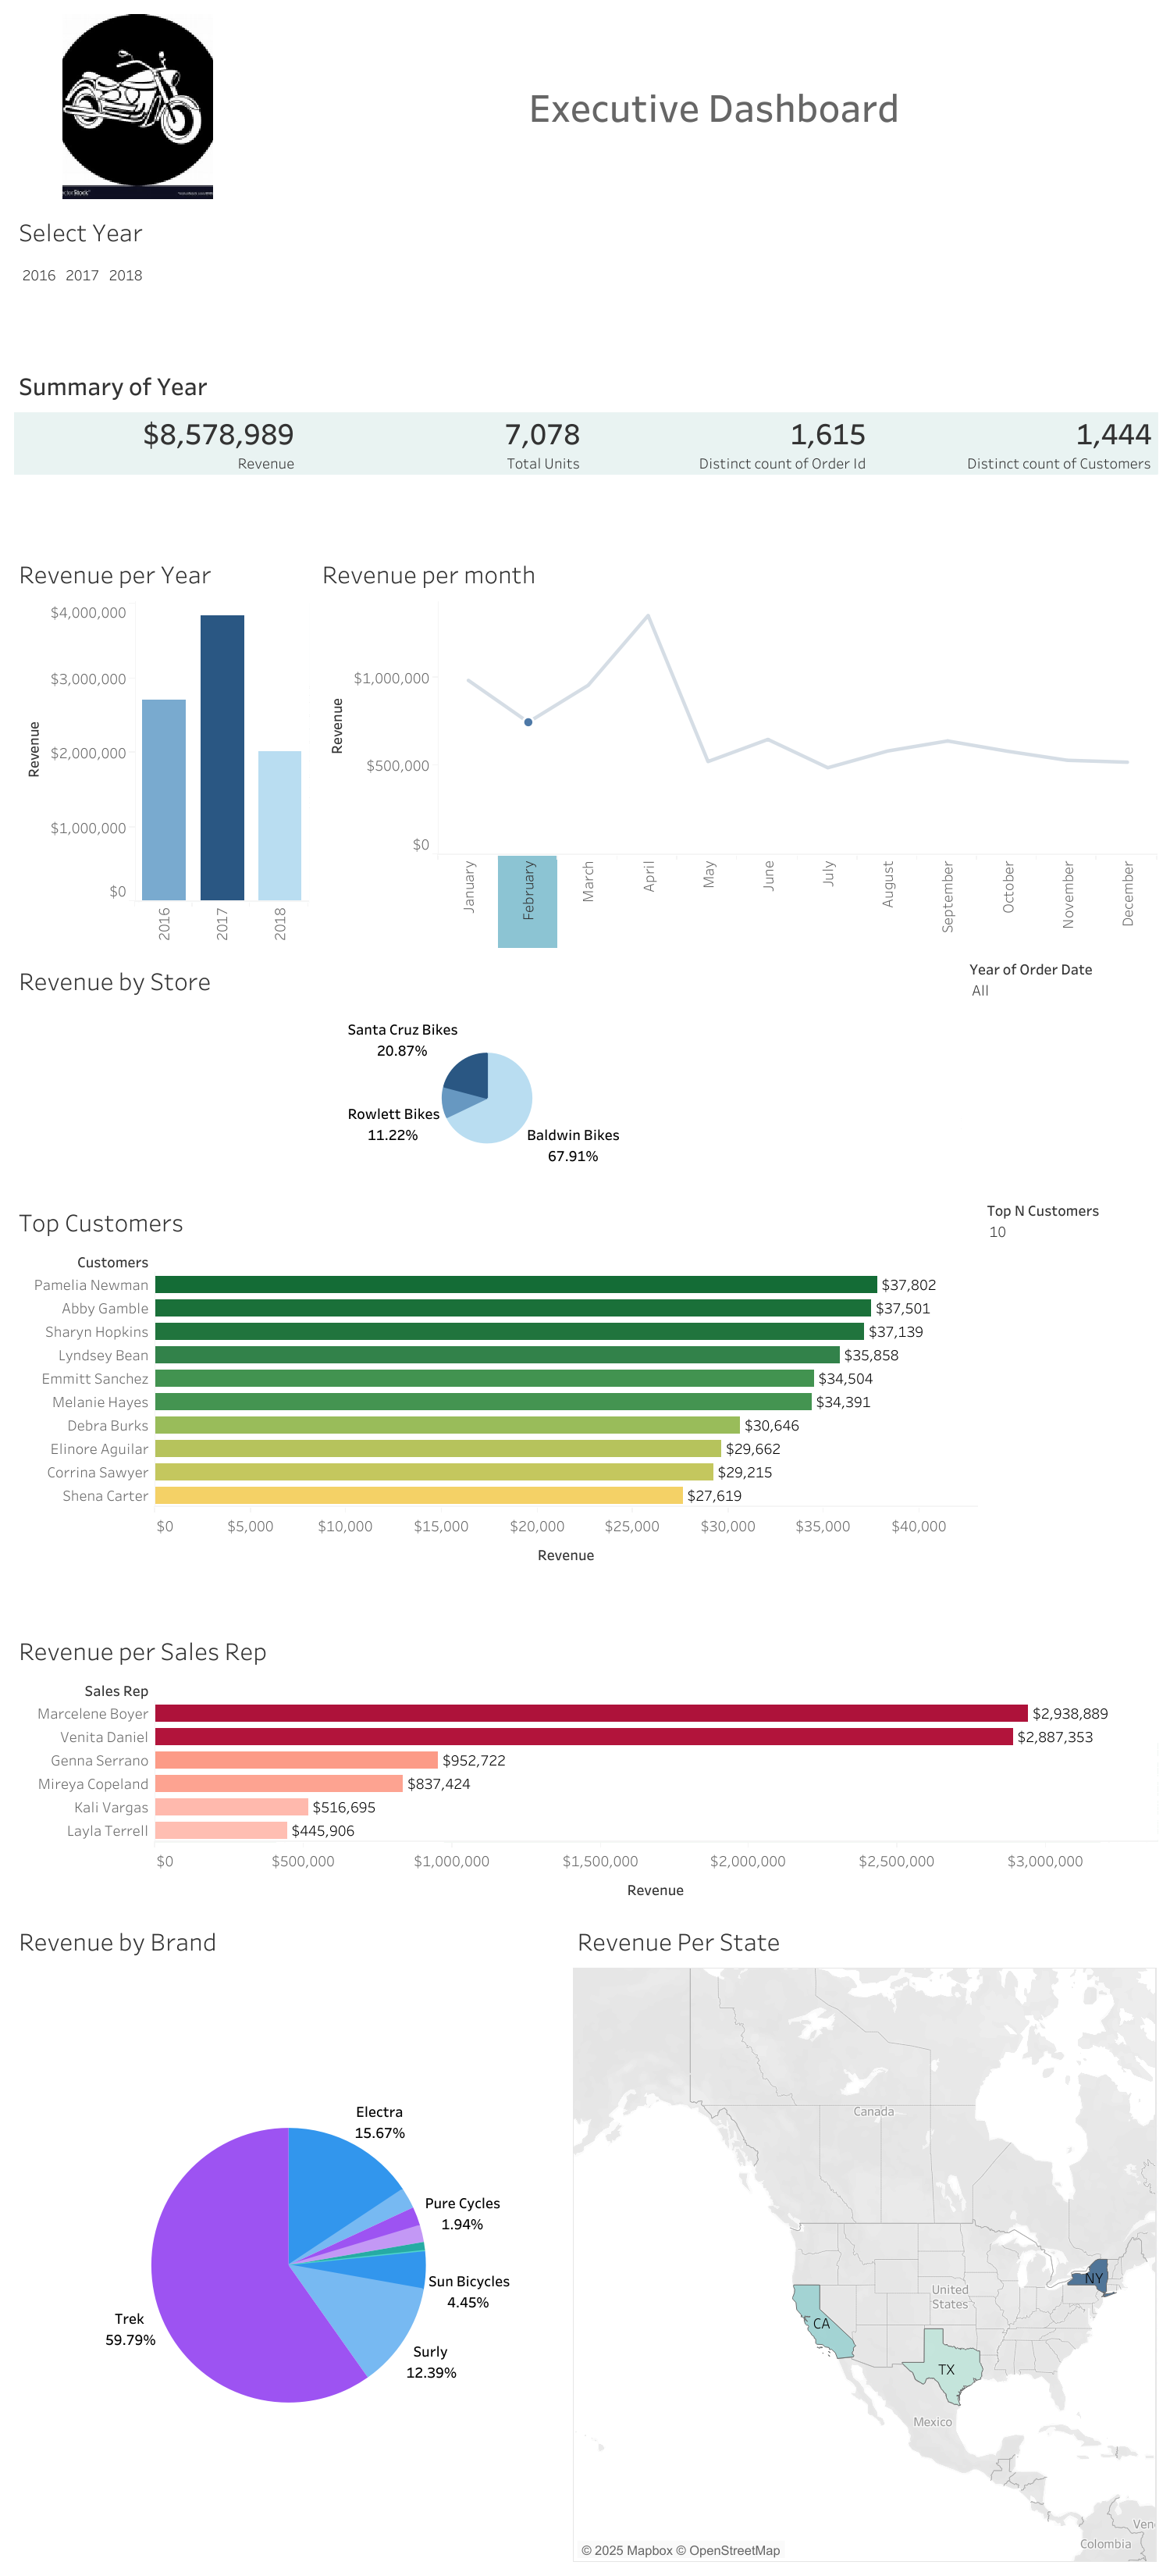

The page's visual inventory and layout, read from the dashboard file:
{"tool":"tableau","page":{"name":"Dashboard 1","canvas":[1000,1000],"units":"permille","ordinal":0},"visuals":[{"type":"image","param":"Image/bik.jpg","box":[8,3.6,220,75.5]},{"type":"text","box":[228,3.6,764,75.5]},{"type":"worksheet","title":"Year","mark":"Automatic","box":[8,79.1,984,59.6]},{"type":"worksheet","title":"Banner","mark":"Automatic","box":[8,138.6,984,73.2]},{"type":"worksheet","title":"Revenue per Year","mark":"Bar","rows":["revenue"],"cols":["order_date"],"box":[8,211.8,282.6,157.7]},{"type":"worksheet","title":"Revenue per month","mark":"Automatic","rows":["revenue"],"cols":["order_date"],"box":[290.6,211.8,701.4,157.7]},{"type":"worksheet","title":"Revenue by Store","mark":"Pie","box":[8,369.6,816,93.6]},{"type":"filter","title":"Revenue per month","param":"[federated.1fbb5gc1g4ahw613zr30h0vxybi0].[yr:order_date:ok]","box":[824,369.6,168,93.6]},{"type":"worksheet","title":"Top Customers","mark":"Automatic","rows":["customers"],"cols":["revenue"],"box":[8,463.2,831,166.4]},{"type":"parameter","param":"[Parameters].[Parameter 1]","box":[839,463.2,153,166.4]},{"type":"worksheet","title":"Revenue per Sales Rep","mark":"Automatic","rows":["sales_rep"],"cols":["revenue"],"box":[8,629.5,984,125.5]},{"type":"worksheet","title":"Revenue by Brand","mark":"Pie","box":[8,755,477,241.4]},{"type":"worksheet","title":"Revenue Per State","mark":"Automatic","box":[485,755,507,241.4]}]}

Visuals, with their boxes on the dashboard's canvas, which has no fixed pixel size, in thousandths of its width and height (x1, y1, x2, y2). These are canvas units, not pixel positions in the 1170x2576 screenshot, which may show the page scaled, cropped or inside an application window:
image: [8, 4, 228, 79]
text: [228, 4, 992, 79]
"Year" worksheet: [8, 79, 992, 139]
"Banner" worksheet: [8, 139, 992, 212]
"Revenue per Year" worksheet (Bar marks): [8, 212, 291, 370]
"Revenue per month" worksheet: [291, 212, 992, 370]
"Revenue by Store" worksheet (Pie marks): [8, 370, 824, 463]
"Revenue per month" filter: [824, 370, 992, 463]
"Top Customers" worksheet: [8, 463, 839, 630]
parameter: [839, 463, 992, 630]
"Revenue per Sales Rep" worksheet: [8, 630, 992, 755]
"Revenue by Brand" worksheet (Pie marks): [8, 755, 485, 996]
"Revenue Per State" worksheet: [485, 755, 992, 996]
